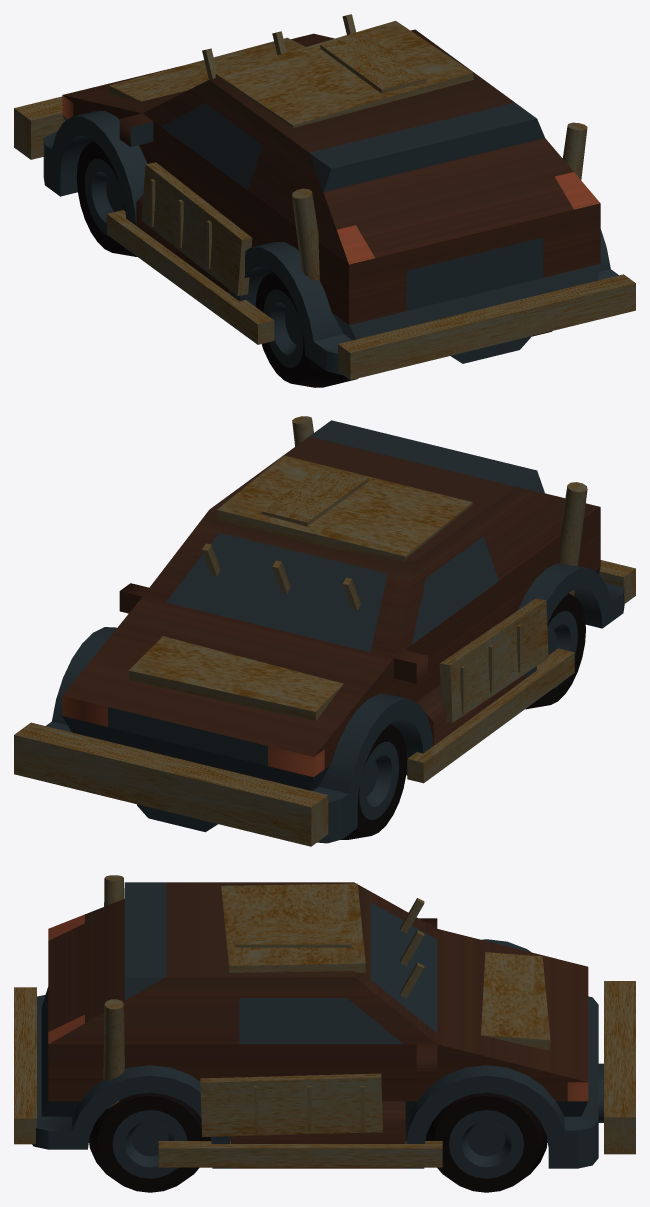
The model's file is LegacyVehicle.glb.
3 views of the same model, one above another, from view 1: azimuth 30°, elevation 25°; view 2: azimuth 150°, elevation 25°; view 3: azimuth 270°, elevation 25° (orthographic). The views are drawn at different scales.
Parts seen in each view (by area): view 1: body, RearGuard, RoofSalvage, DoorArmor-1, Sill-1, wheel-back-left, HoodPlate, wheel-front-left, Identification, FrontRam, Exhaust-1, Exhaust1; view 2: body, FrontRam, RoofSalvage, HoodPlate, DoorArmor-1, Sill-1, wheel-front-left, Identification, wheel-back-left, Exhaust-1, RearGuard; view 3: body, DoorArmor1, RoofSalvage, wheel-front-right, wheel-back-right, Sill1, HoodPlate, FrontRam, RearGuard, Identification, Exhaust1, Exhaust-1.
Boxes of the visible parts, x1,y1,x2,y2 form: body: [43, 29, 618, 374]; RearGuard: [338, 274, 635, 380]; RoofSalvage: [215, 20, 473, 127]; DoorArmor-1: [141, 162, 252, 295]; Sill-1: [107, 210, 274, 344]; wheel-back-left: [255, 271, 357, 387]; HoodPlate: [109, 37, 305, 101]; wheel-front-left: [76, 140, 136, 256]; Identification: [320, 33, 427, 93]; FrontRam: [14, 96, 64, 159]; Exhaust-1: [292, 188, 319, 280]; Exhaust1: [562, 122, 587, 179]; body: [46, 420, 624, 843]; FrontRam: [14, 722, 328, 846]; RoofSalvage: [216, 455, 472, 561]; HoodPlate: [128, 636, 343, 720]; DoorArmor-1: [439, 598, 548, 722]; Sill-1: [407, 648, 574, 783]; wheel-front-left: [341, 723, 407, 839]; Identification: [261, 466, 368, 526]; wheel-back-left: [525, 593, 585, 709]; Exhaust-1: [560, 482, 587, 595]; RearGuard: [599, 560, 635, 603]; body: [32, 882, 603, 1168]; DoorArmor1: [200, 1073, 382, 1136]; RoofSalvage: [221, 883, 365, 972]; wheel-front-right: [425, 1092, 547, 1192]; wheel-back-right: [89, 1092, 210, 1192]; Sill1: [158, 1141, 442, 1167]; HoodPlate: [481, 952, 550, 1049]; FrontRam: [604, 981, 635, 1154]; RearGuard: [14, 987, 36, 1144]; Identification: [235, 923, 351, 947]; Exhaust1: [103, 999, 124, 1108]; Exhaust-1: [104, 875, 124, 906].
Bounding box in the file's own units: 1.94 × 1.35 × 3.51.
Materials: 4 (3 with a texture image).
